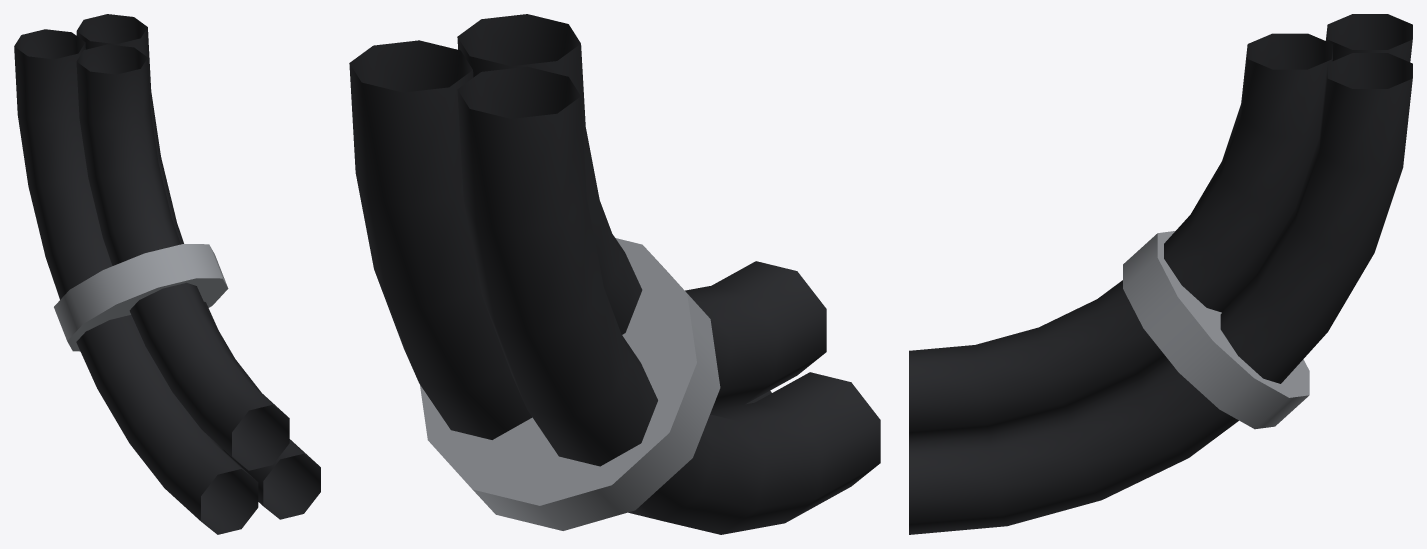
The model's file is bend_up_south.obj.
3 views of the same model, side by side, from view 1: azimuth 30°, elevation 25°; view 2: azimuth 150°, elevation 25°; view 3: azimuth 270°, elevation 25° (orthographic). The views are drawn at different scales.
Visible parts, largest first — view 1: bend_up_south; view 2: bend_up_south; view 3: bend_up_south.
Boxes of the visible parts, x1,y1,x2,y2 form: bend_up_south: (14, 14, 320, 534); bend_up_south: (349, 14, 880, 534); bend_up_south: (909, 14, 1412, 534).
Size of the model in its own units: 0.2475 by 0.5798 by 0.5798.
